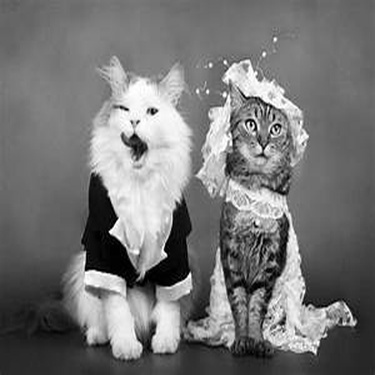cat: (18, 50, 191, 363), (211, 47, 301, 360)
